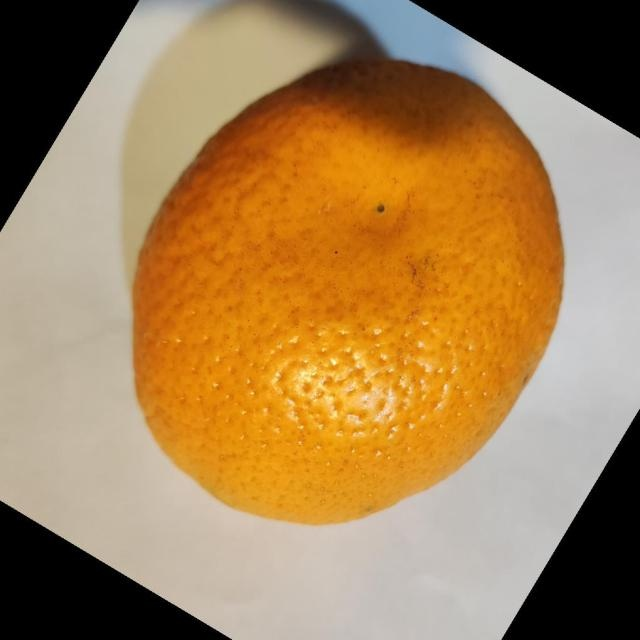agrume: (130, 55, 565, 526)
